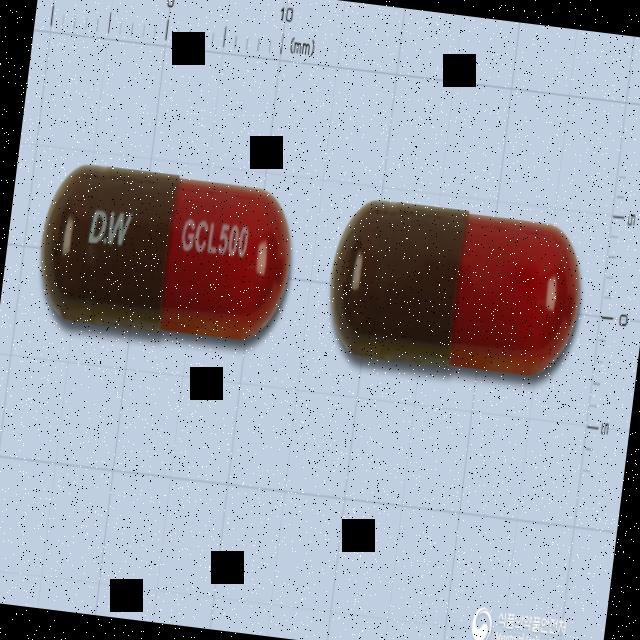Gomcillin Cap -250mg: (31, 156, 300, 354)
